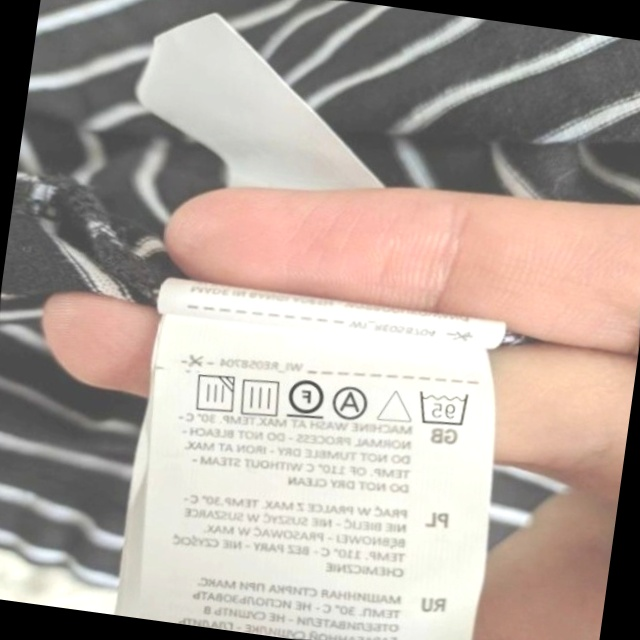95C: (412, 383, 474, 431)
bleach: (375, 381, 416, 428)
drip_dry: (235, 372, 285, 421)
drip_dry_in_shade: (187, 368, 239, 419)
dry_clean: (329, 381, 373, 424)
dry_clean_petrol_only: (283, 371, 329, 423)
